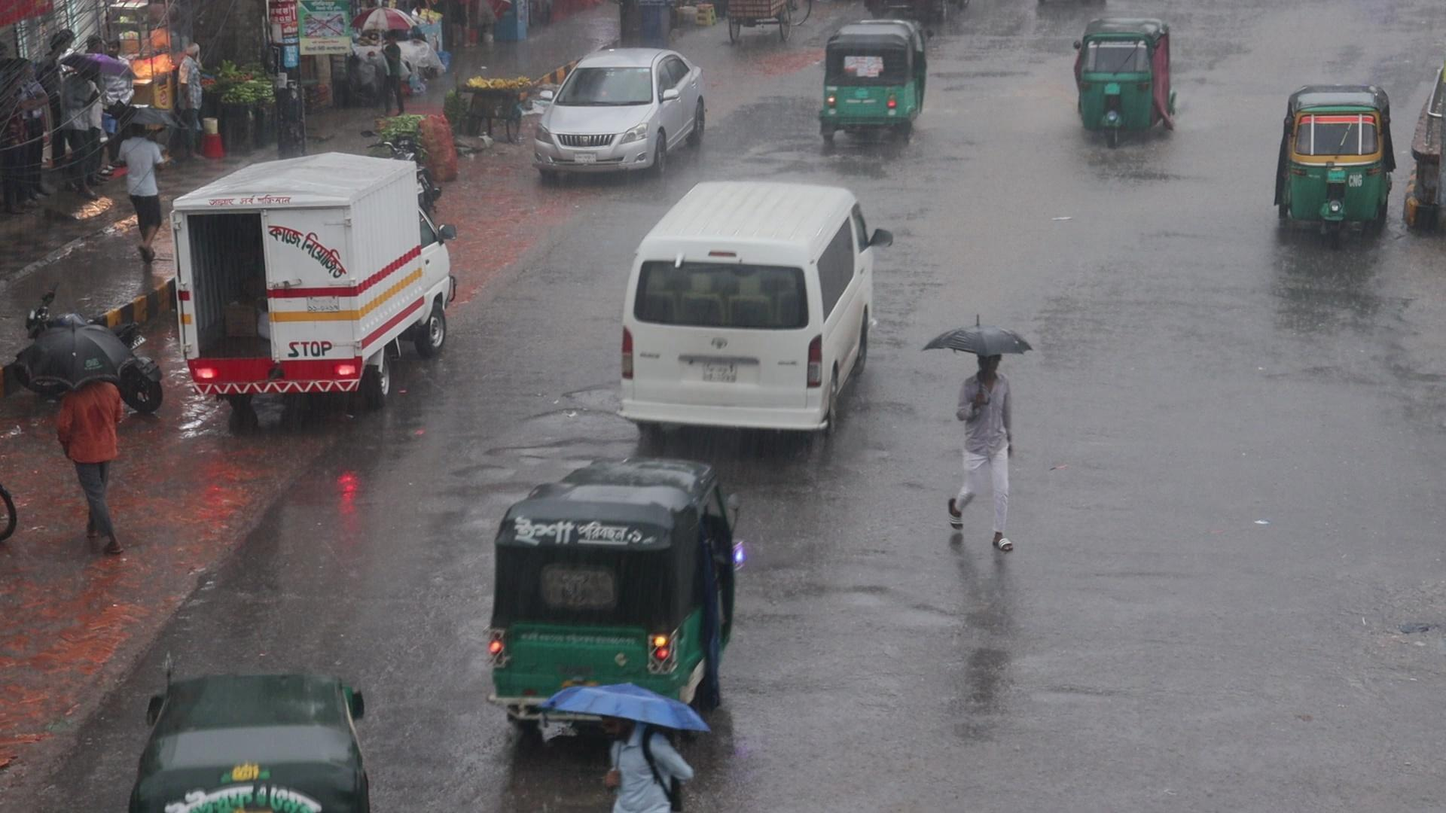Car: (619, 181, 894, 434), (532, 46, 707, 174)
